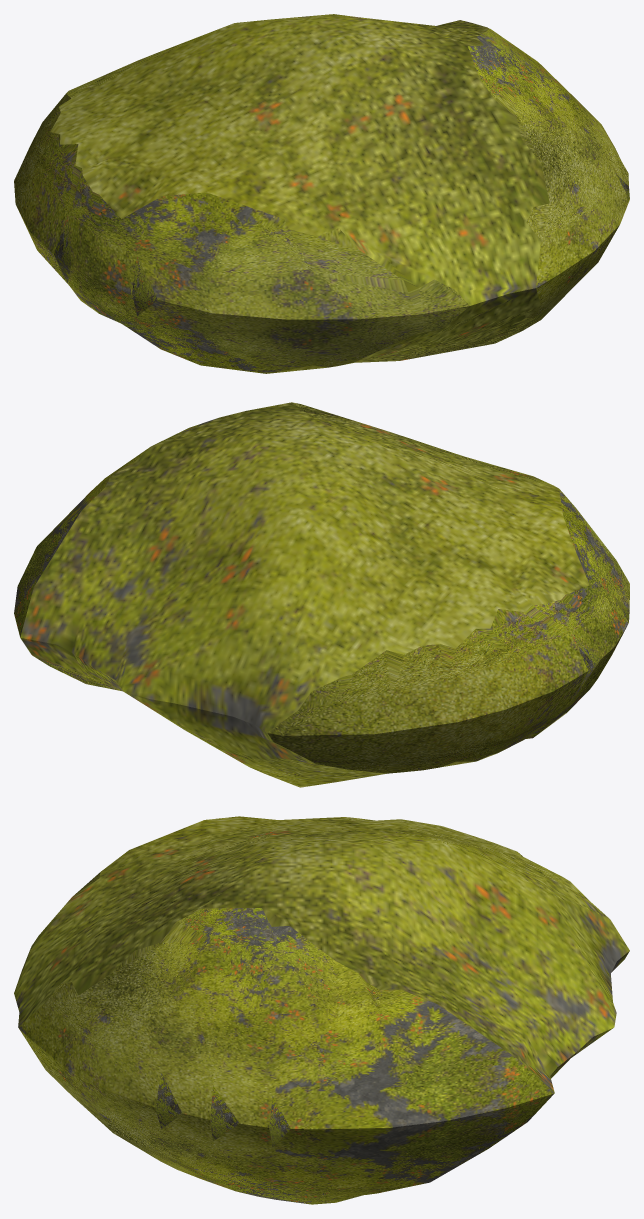
File: SM_MossClump_01.fbx
3 renders of one model, top to bottom at view 1: azimuth 30°, elevation 25°; view 2: azimuth 150°, elevation 25°; view 3: azimuth 270°, elevation 25°, orthographic. The views are drawn at different scales.
Visible parts, largest first — view 1: SM_MossClump_01; view 2: SM_MossClump_01; view 3: SM_MossClump_01.
Boxes of the visible parts, bbox=[...] form: SM_MossClump_01: bbox=[14, 14, 629, 373]; SM_MossClump_01: bbox=[14, 402, 629, 787]; SM_MossClump_01: bbox=[14, 816, 629, 1204].
Bounding box in the file's own units: 16.95 × 16.65 × 9.4.
